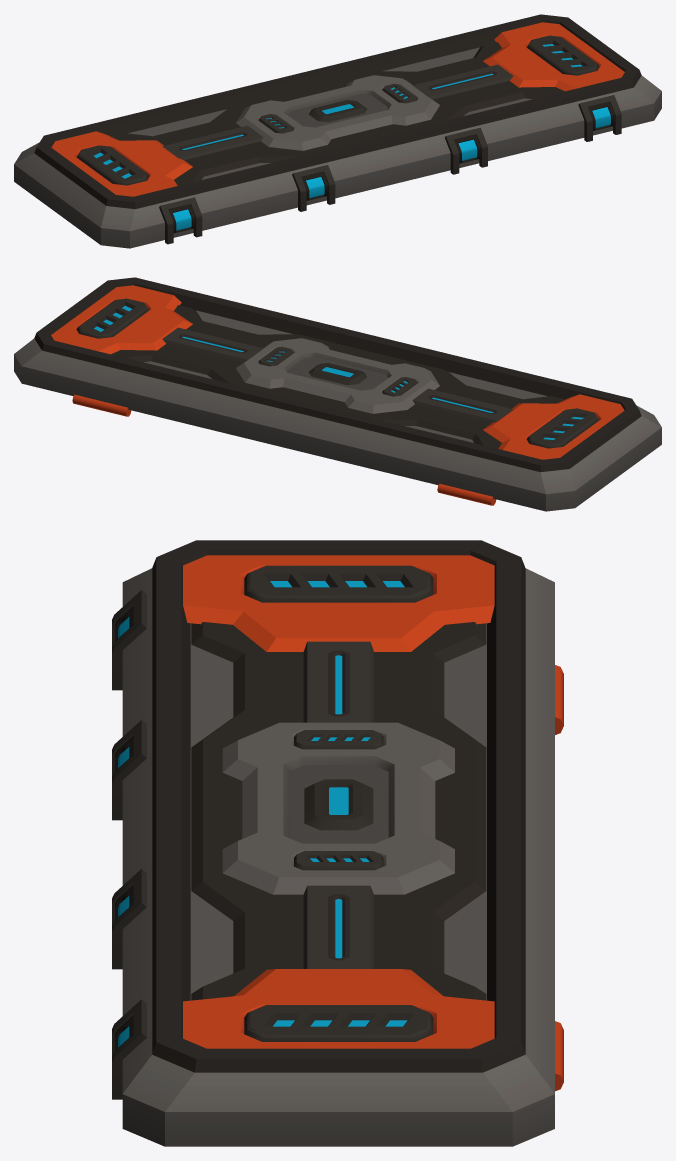
The model's file is Container_03_Cap.fbx.
3 views of the same model, one above another, from view 1: azimuth 30°, elevation 25°; view 2: azimuth 150°, elevation 25°; view 3: azimuth 270°, elevation 25° (orthographic). The views are drawn at different scales.
Visible parts, largest first — view 1: Container_03_Cap; view 2: Container_03_Cap; view 3: Container_03_Cap.
Boxes of the visible parts, bbox=[...] form: Container_03_Cap: bbox=[14, 14, 661, 248]; Container_03_Cap: bbox=[14, 277, 661, 511]; Container_03_Cap: bbox=[112, 540, 563, 1146].
Bounding box in the file's own units: 131 × 10.05 × 45.82.
